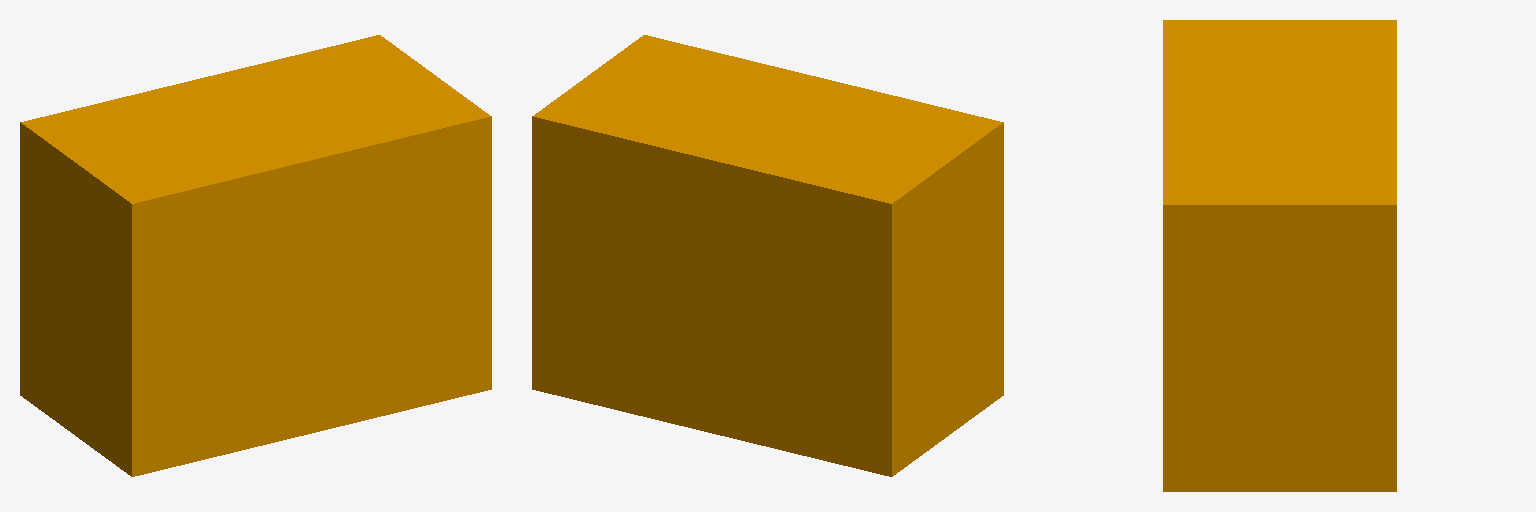
The robot description file, URDF, robot "sim_table":
<robot name="sim_table">
  <link name="table_link">
    <visual>
      <origin xyz="0 0 0.405" rpy="0 0 0"/>
      <geometry><box size="1.115 0.60 0.81"/></geometry>
    </visual>
    <collision>
      <origin xyz="0 0 0.405" rpy="0 0 0"/>
      <geometry><box size="1.115 0.60 0.81"/></geometry>
    </collision>
  </link>
</robot>

--- Facts derived from the render (not from the file) ---
The picture shows the robot from 3 angles, left to right: view 1: azimuth 30°, elevation 25°; view 2: azimuth 150°, elevation 25°; view 3: azimuth 270°, elevation 25°; orthographic projection.
Robot: sim_table — 1 links, 0 joints (none); root link table_link; default pose: all joints at 0.
Links seen in each view (by area): view 1: table_link; view 2: table_link; view 3: table_link.
Boxes of the visible links, x1=… form: table_link: x1=20, y1=35, x2=491, y2=476; table_link: x1=532, y1=35, x2=1003, y2=476; table_link: x1=1163, y1=20, x2=1396, y2=491.
Bounding box of the posed robot: 1.11 × 0.6 × 0.81 m (x, y, z).
Geometry: primitives only (box / cylinder / sphere), no mesh files.